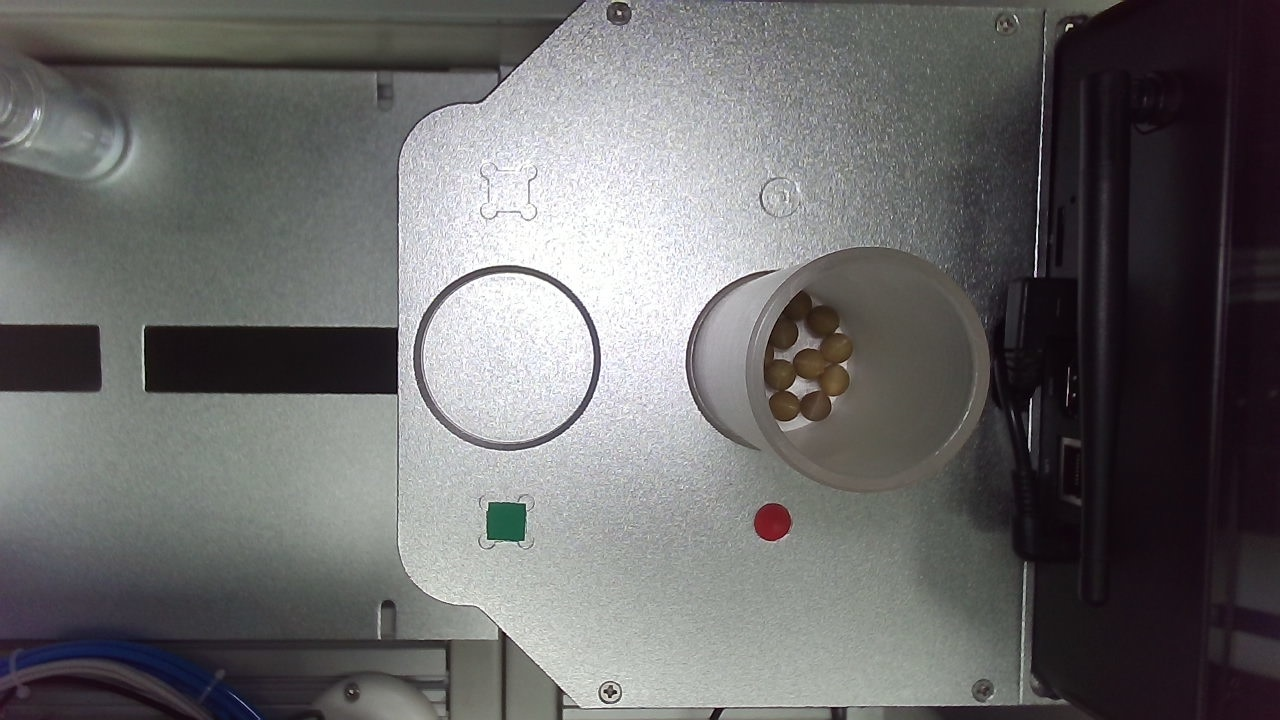XLabel: (653, 323, 687, 356)
YLabel: (432, 324, 467, 359)
none: (593, 393, 750, 553)
transparenexcept: (272, 396, 530, 618)
